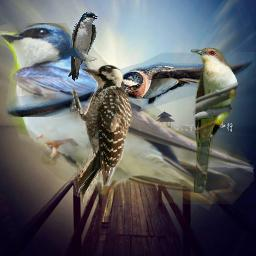Cuckoo: (190, 47, 239, 193)
Swallow: (0, 23, 254, 213), (5, 52, 255, 117), (68, 12, 98, 81)
Woodpecker: (68, 61, 133, 205)
